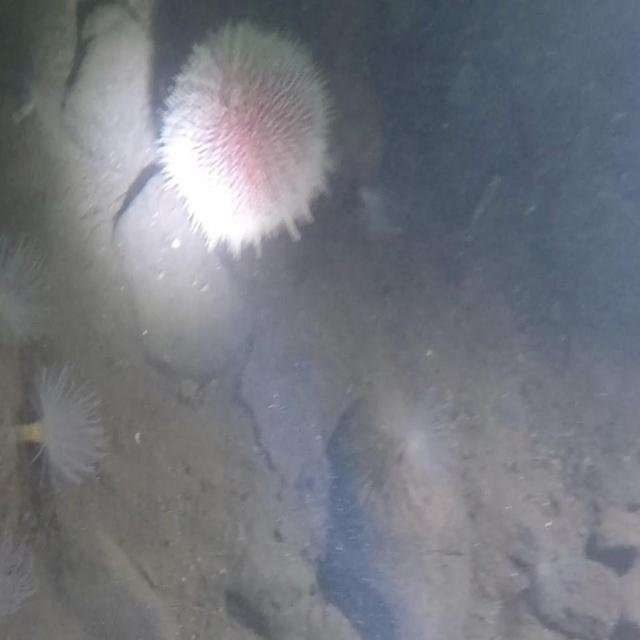Deniz Kestanesi: (156, 17, 340, 261)
